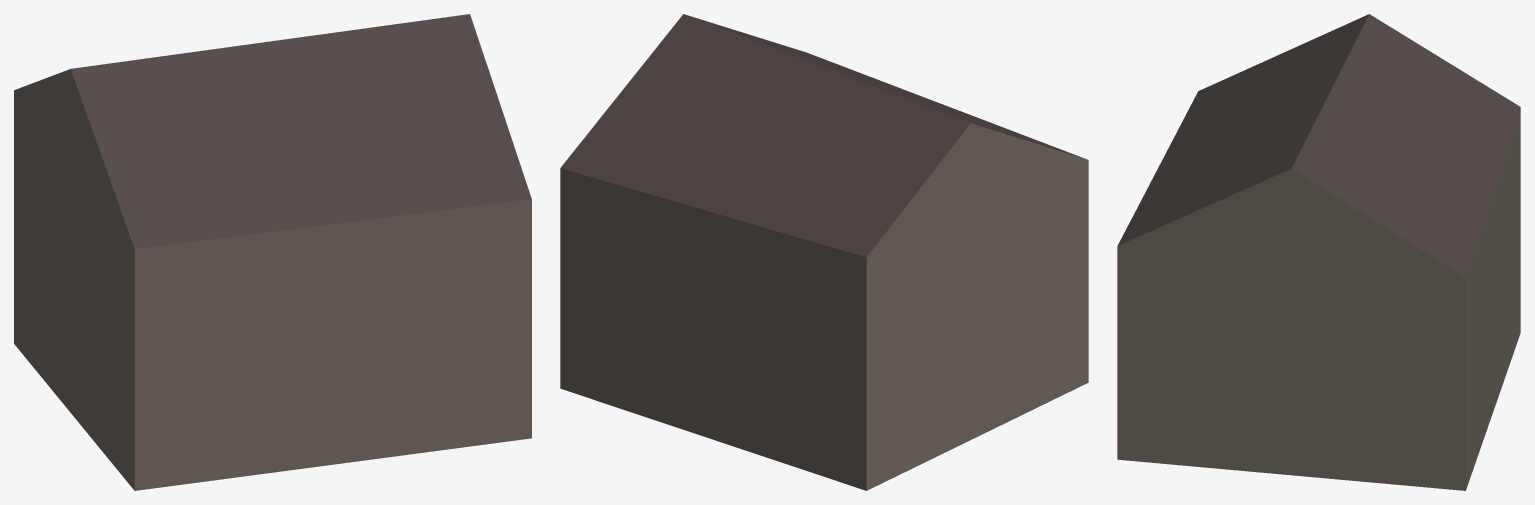
The picture shows the model from 3 angles, left to right: view 1: azimuth 30°, elevation 25°; view 2: azimuth 150°, elevation 25°; view 3: azimuth 270°, elevation 25°; orthographic projection. The views are drawn at different scales.
Visible parts, largest first — view 1: HP-w1515071132; view 2: HP-w1515071132; view 3: HP-w1515071132.
Part boxes in pixels (bbox=[...]): HP-w1515071132: bbox=[14, 14, 531, 490]; HP-w1515071132: bbox=[560, 14, 1088, 490]; HP-w1515071132: bbox=[1117, 14, 1520, 490].
Size of the model in its own units: 11.11 by 8.62 by 10.28.
